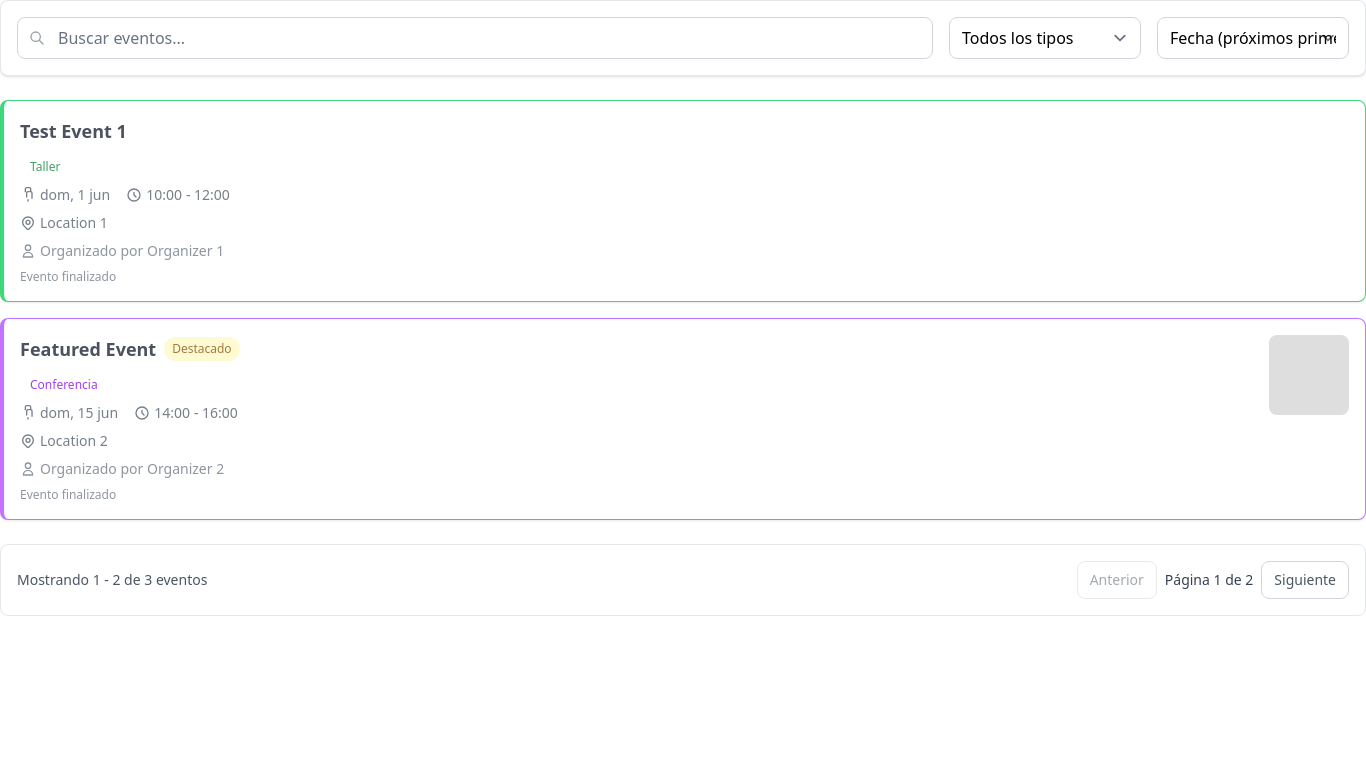
Test: EventList › Pagination › should navigate to next page
The image size is (1366, 768).
Click the button "Siguiente": (1305, 580) [1261, 561, 1349, 599]
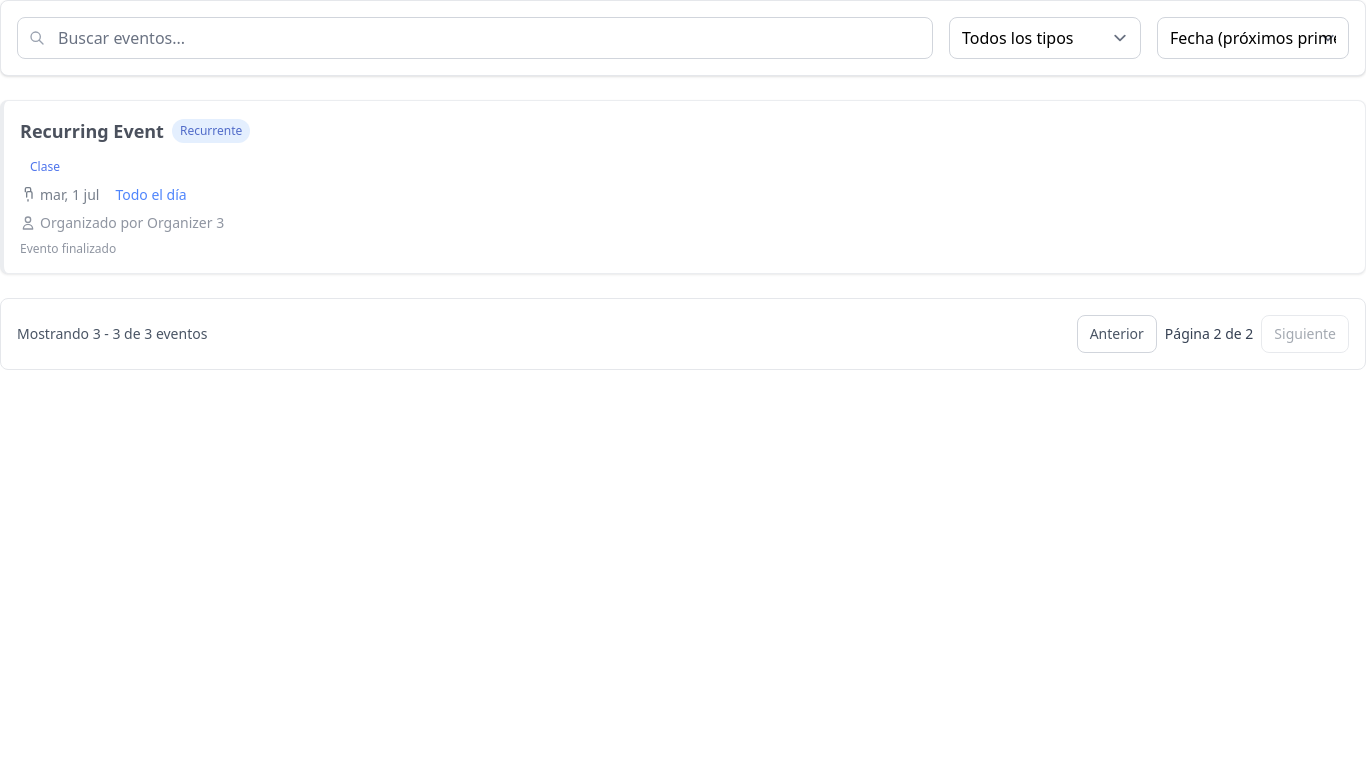
Result: the text "Página 2 de 2" is shown at [1165, 324, 1253, 344]
